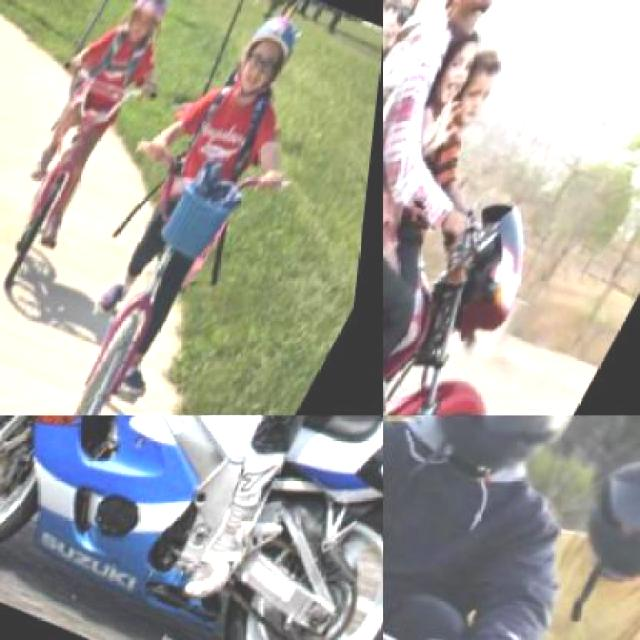With Helmet: (406, 416, 605, 502), (563, 440, 639, 608), (220, 6, 315, 114), (110, 0, 184, 62)
Without Helmet: (409, 0, 534, 65), (421, 28, 494, 120), (447, 41, 518, 133), (383, 0, 435, 65)
